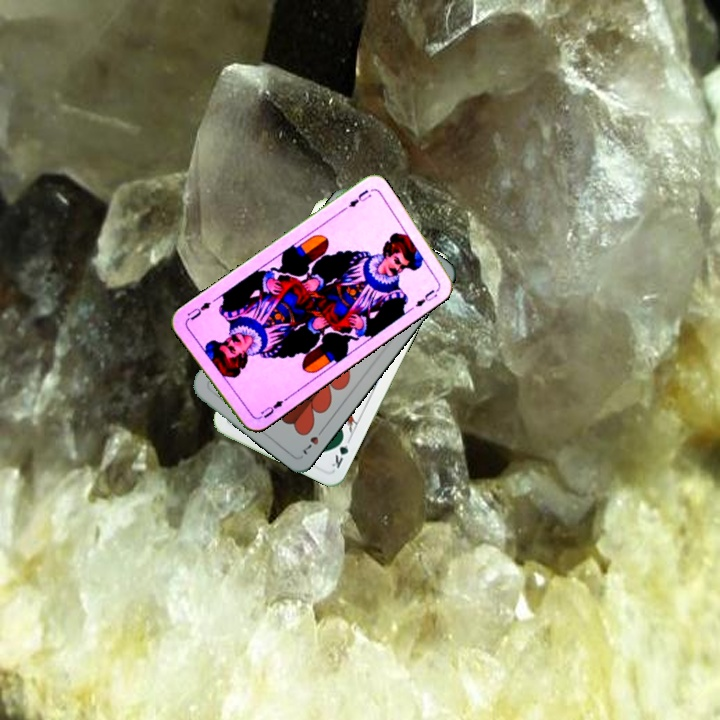EU: (254, 395, 286, 422), (344, 186, 374, 210)
GK: (327, 432, 353, 471)
H7: (299, 423, 327, 458)
